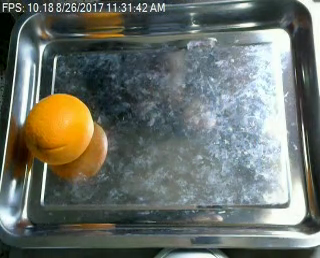Orange: (22, 91, 93, 165)
